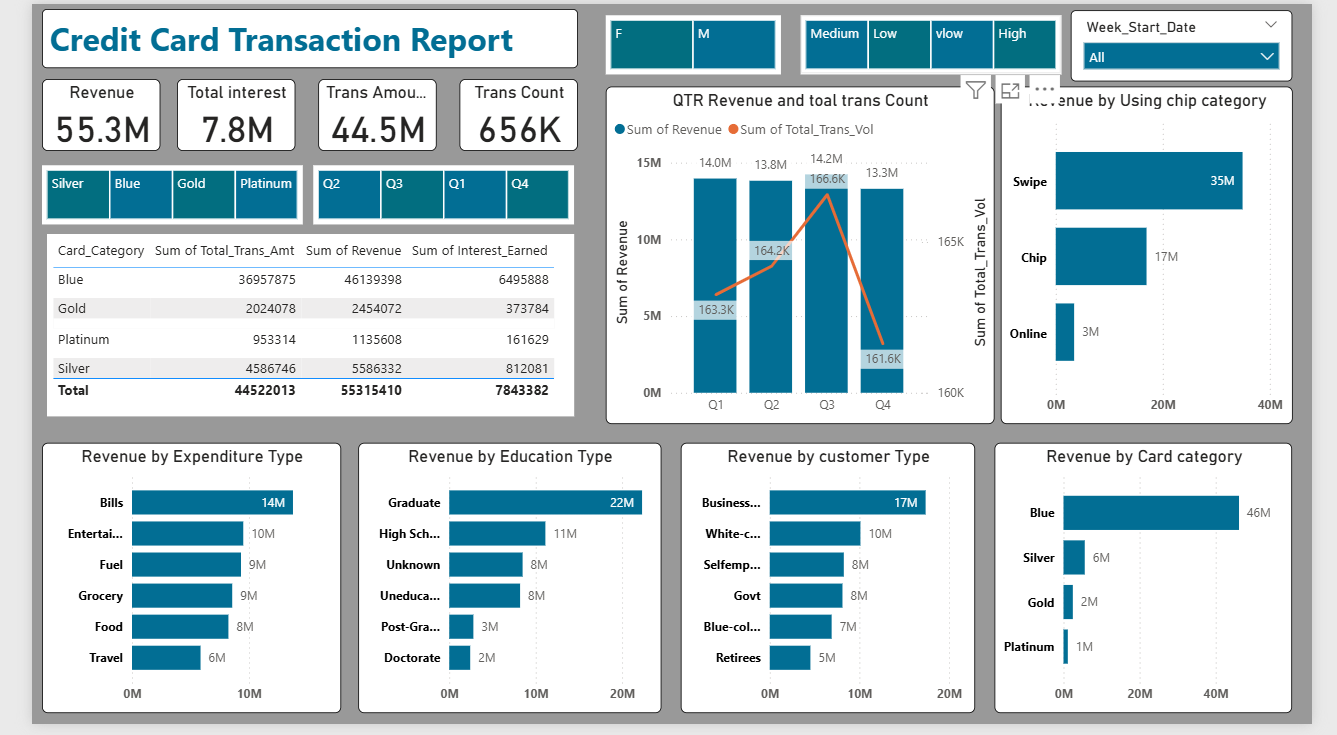

What the dashboard file says about the page in this screenshot:
{"tool":"powerbi","page":{"name":"cc Transactioin ","canvas":[1280,720],"ordinal":0},"visuals":[{"type":"textbox","box":[9.7,4.8,535.7,59.1],"z":0},{"type":"lineStackedColumnComboChart","title":"QTR Revenue and toal trans Count","fields":{"Y":["Sum(credit_card.Revenue)"],"Category":["credit_card.Qtr"],"Y2":["Sum(credit_card.Total_Trans_Vol)"]},"box":[574.3,82,388.5,337.8],"z":1000},{"type":"clusteredBarChart","title":" Revenue by Expenditure Type","fields":{"Y":["Sum(credit_card.Revenue)"],"Category":["credit_card.Exp Type"]},"box":[9.7,439.1,299.2,270.2],"z":2000},{"type":"clusteredBarChart","title":" Revenue by Education Type","fields":{"Category":["customer.Education_Level"],"Y":["Sum(credit_card.Revenue)"]},"box":[325.7,439.1,302.8,270.2],"z":3000},{"type":"clusteredBarChart","title":" Revenue by customer Type","fields":{"Y":["Sum(credit_card.Revenue)"],"Category":["customer.Customer_Job"]},"box":[649.1,439.1,294.4,270.2],"z":4000},{"type":"clusteredBarChart","title":" Revenue by Card category","fields":{"Category":["credit_card.Card_Category"],"Y":["Sum(credit_card.Revenue)"]},"box":[962.7,439.1,298,270.2],"z":5000},{"type":"clusteredBarChart","title":" Revenue by Using chip category","fields":{"Category":["credit_card.Use Chip"],"Y":["Sum(credit_card.Revenue)"]},"box":[968.8,82,292,337.8],"z":6000},{"type":"card","title":"Revenue","fields":{"Values":["Sum(credit_card.Revenue)"]},"box":[9.7,74.8,118.2,72.4],"z":7000},{"type":"card","title":"Total interest","fields":{"Values":["Sum(credit_card.Interest_Earned)"]},"box":[144.8,74.8,118.2,72.4],"z":8000},{"type":"card","title":"Trans Amount","fields":{"Values":["Sum(credit_card.Total_Trans_Amt)"]},"box":[285.9,74.8,118.2,72.4],"z":9000},{"type":"card","title":"Trans Count","fields":{"Values":["Sum(credit_card.Total_Trans_Vol)"]},"box":[427.1,74.8,118.2,72.4],"z":10000},{"type":"slicer","fields":{"Values":["credit_card.Week_Start_Date"]},"box":[1038.7,6,222,71.2],"z":11000},{"type":"treemap","fields":{"Group":["credit_card.Qtr"],"Values":["CountNonNull(credit_card.Client_Num)"]},"box":[281.1,161.7,260.6,59.1],"z":12000},{"type":"treemap","fields":{"Group":["customer.Gender"],"Values":["Avg(credit_card.Client_Num)"]},"box":[574.3,10.9,174.9,59.1],"z":13000},{"type":"treemap","fields":{"Values":["Avg(credit_card.Client_Num)"],"Group":["credit_card.Card_Category"]},"box":[9.7,161.7,260.6,59.1],"z":14000},{"type":"treemap","fields":{"Values":["Avg(credit_card.Client_Num)"],"Group":["customer.salaryBkt"]},"box":[335.4,276.3,183.4,59.1],"z":15000},{"type":"tableEx","fields":{"Values":["credit_card.Card_Category","Sum(credit_card.Total_Trans_Amt)","Sum(credit_card.Revenue)","Sum(credit_card.Interest_Earned)"]},"box":[14.5,230.4,527.2,182.2],"z":16000},{"type":"treemap","fields":{"Group":["customer.salaryBkt"],"Values":["Avg(credit_card.Client_Num)"]},"box":[768.5,10.9,260.6,59.1],"z":17000}]}

Visuals, with their boxes in screenshot pixels (x1, y1, x2, y2), scaled from the page's 1280x720 canvas onto the 1337x735 screenshot:
textbox: BBox(10, 5, 570, 65)
"QTR Revenue and toal trans Count" lineStackedColumnComboChart: BBox(600, 84, 1006, 429)
" Revenue by Expenditure Type" clusteredBarChart: BBox(10, 448, 323, 724)
" Revenue by Education Type" clusteredBarChart: BBox(340, 448, 656, 724)
" Revenue by customer Type" clusteredBarChart: BBox(678, 448, 986, 724)
" Revenue by Card category" clusteredBarChart: BBox(1006, 448, 1317, 724)
" Revenue by Using chip category" clusteredBarChart: BBox(1012, 84, 1317, 429)
"Revenue" card: BBox(10, 76, 134, 150)
"Total interest" card: BBox(151, 76, 275, 150)
"Trans Amount" card: BBox(299, 76, 422, 150)
"Trans Count" card: BBox(446, 76, 570, 150)
slicer - credit_card.Week_Start_Date: BBox(1085, 6, 1317, 79)
treemap - credit_card.Qtr x CountNonNull(credit_card.Client_Num): BBox(294, 165, 566, 225)
treemap - customer.Gender x Avg(credit_card.Client_Num): BBox(600, 11, 783, 71)
treemap - Avg(credit_card.Client_Num) x credit_card.Card_Category: BBox(10, 165, 282, 225)
treemap - Avg(credit_card.Client_Num) x customer.salaryBkt: BBox(350, 282, 542, 342)
tableEx - credit_card.Card_Category x Sum(credit_card.Total_Trans_Amt): BBox(15, 235, 566, 421)
treemap - customer.salaryBkt x Avg(credit_card.Client_Num): BBox(803, 11, 1075, 71)
